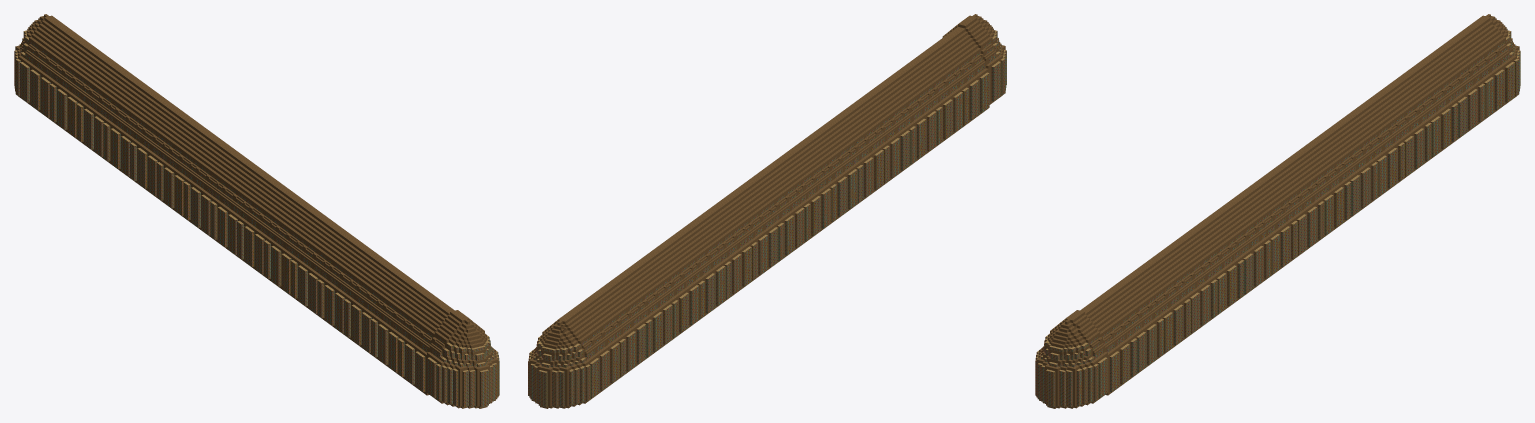
Rendered from minecraft.obj.
3 views of the same model, side by side, from view 1: azimuth 30°, elevation 25°; view 2: azimuth 150°, elevation 25°; view 3: azimuth 330°, elevation 25° (orthographic).
Bounding box in the file's own units: 23 × 29 × 307.
